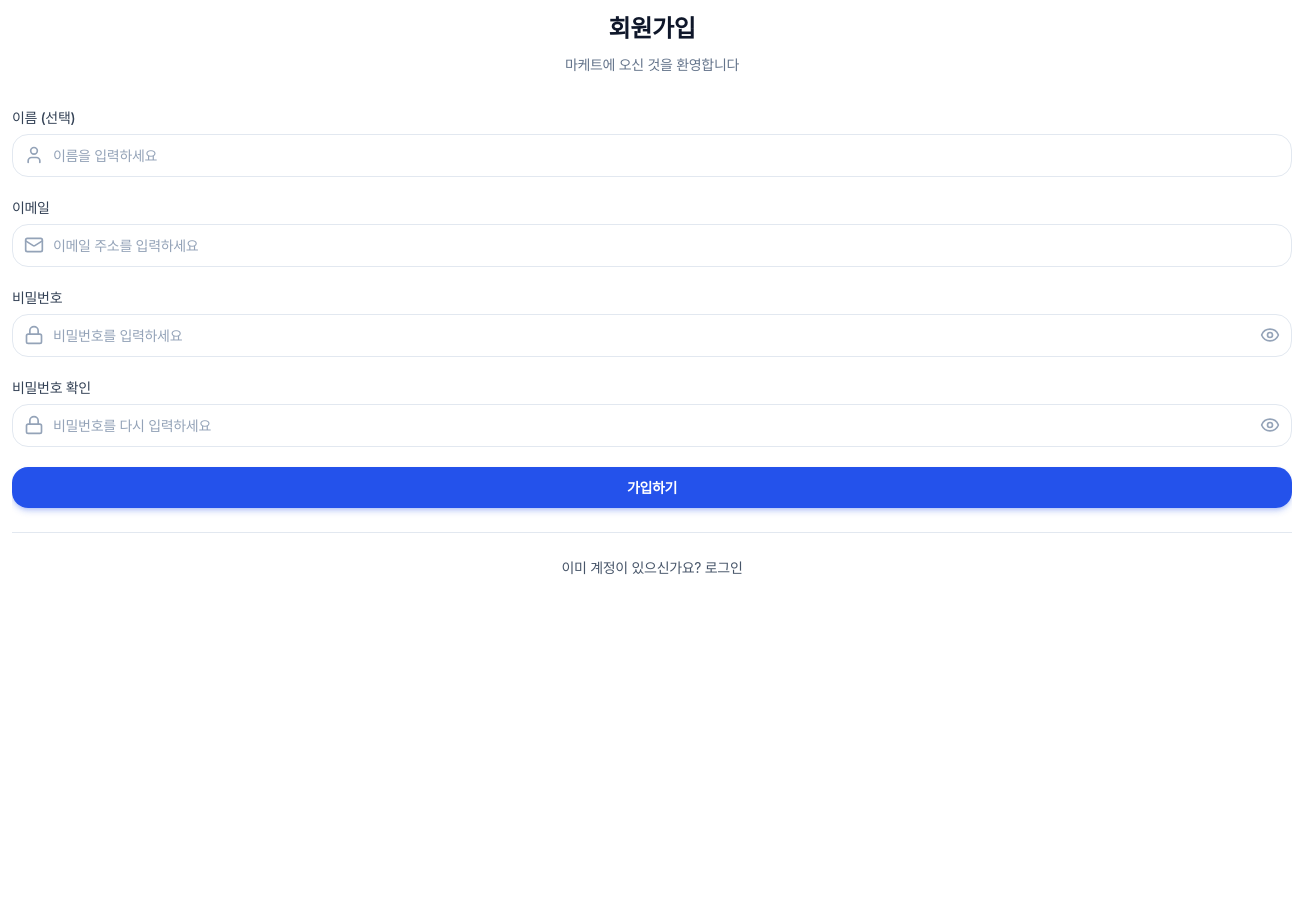
it: SignUpPage › 회원가입 실패 › 이미 가입된 이메일이면 에러 메시지를 표시한다
The width and height of the screenshot is (1304, 912).
In the field labelled "이메일": (652, 245) [12,224,1292,267], type "existing@example.com"
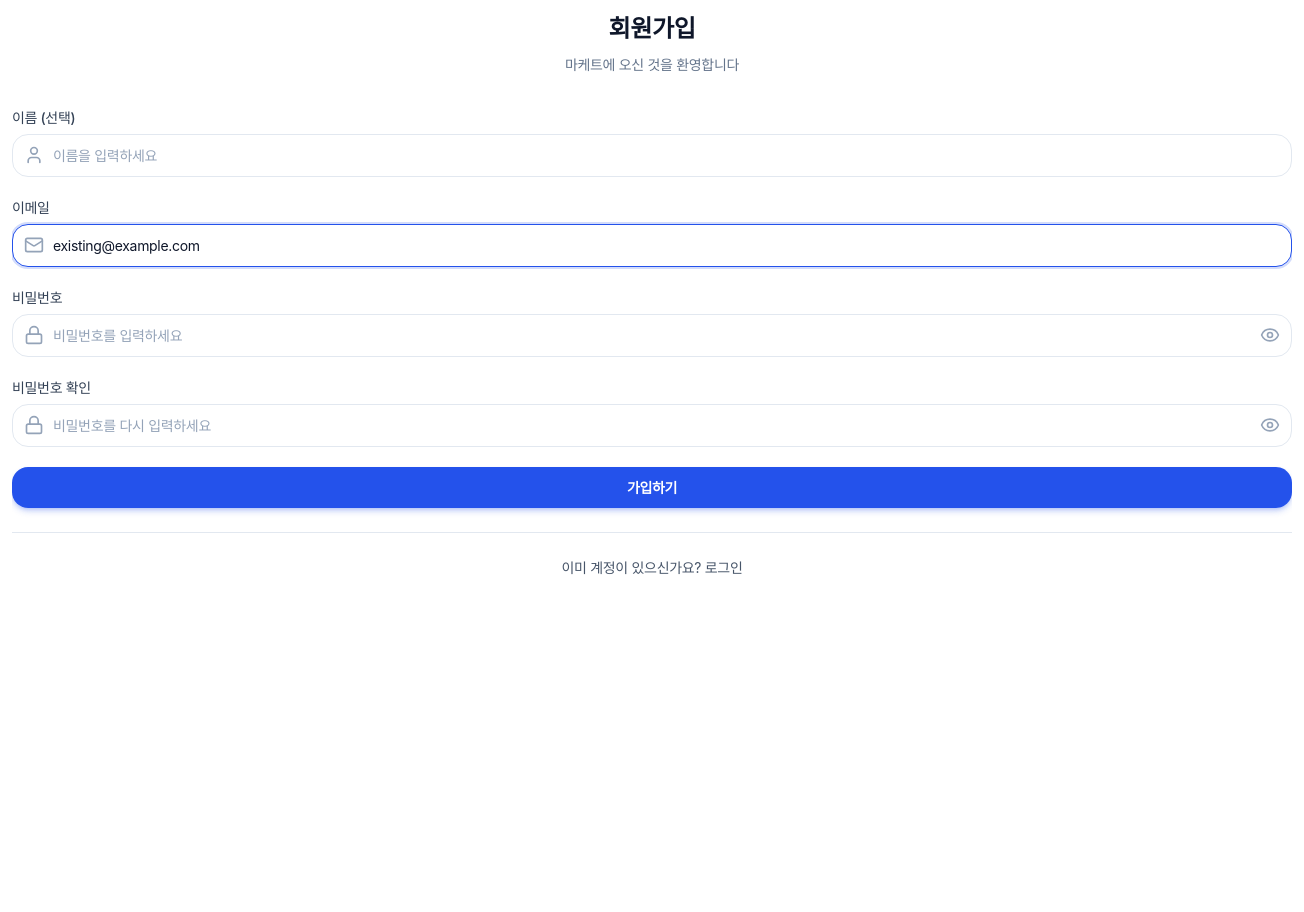
In the password field labelled "비밀번호": (652, 335) [12,314,1292,357], type "Password123"
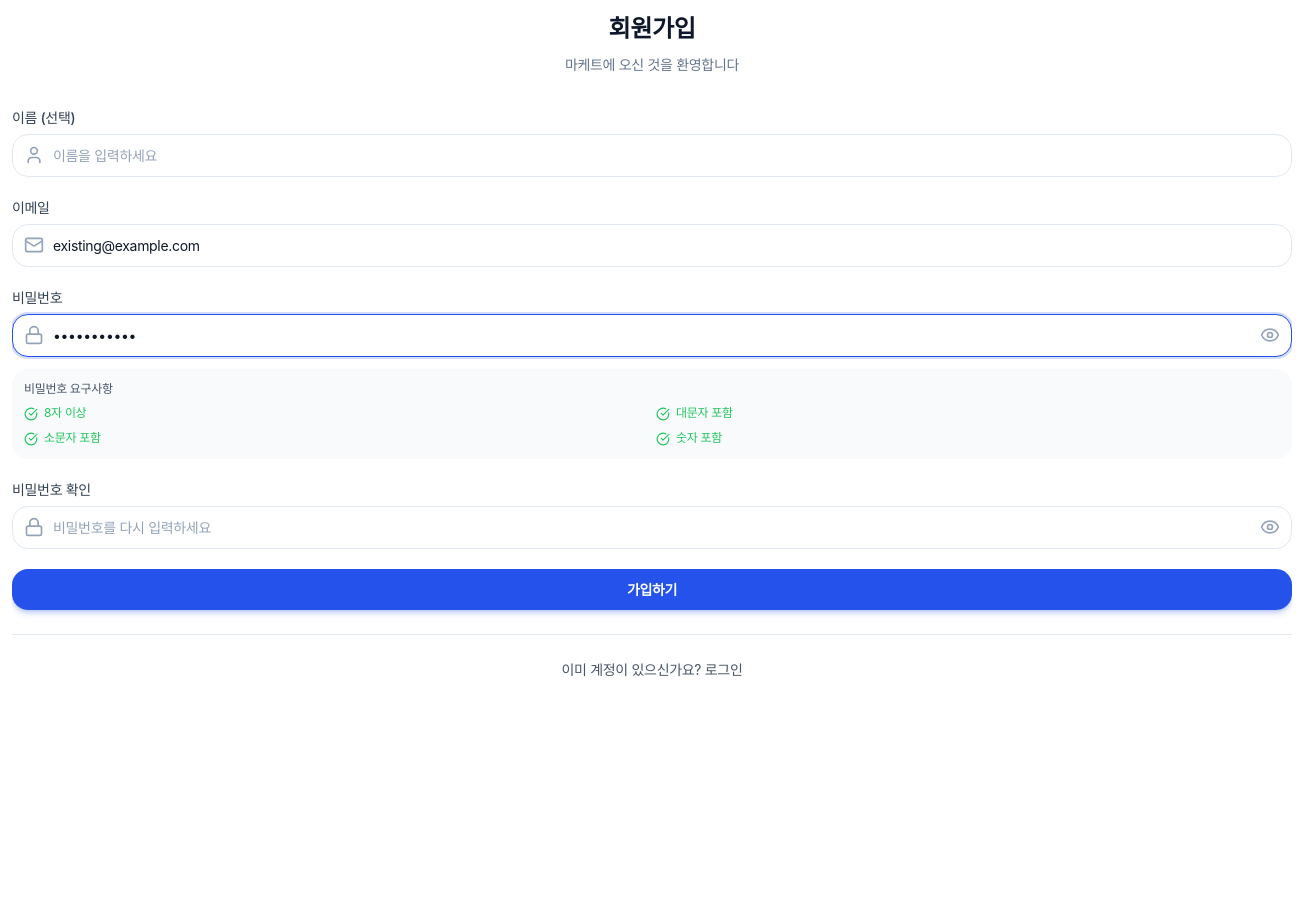
In the password field labelled "비밀번호 확인": (652, 528) [12,506,1292,549], type "Password123"
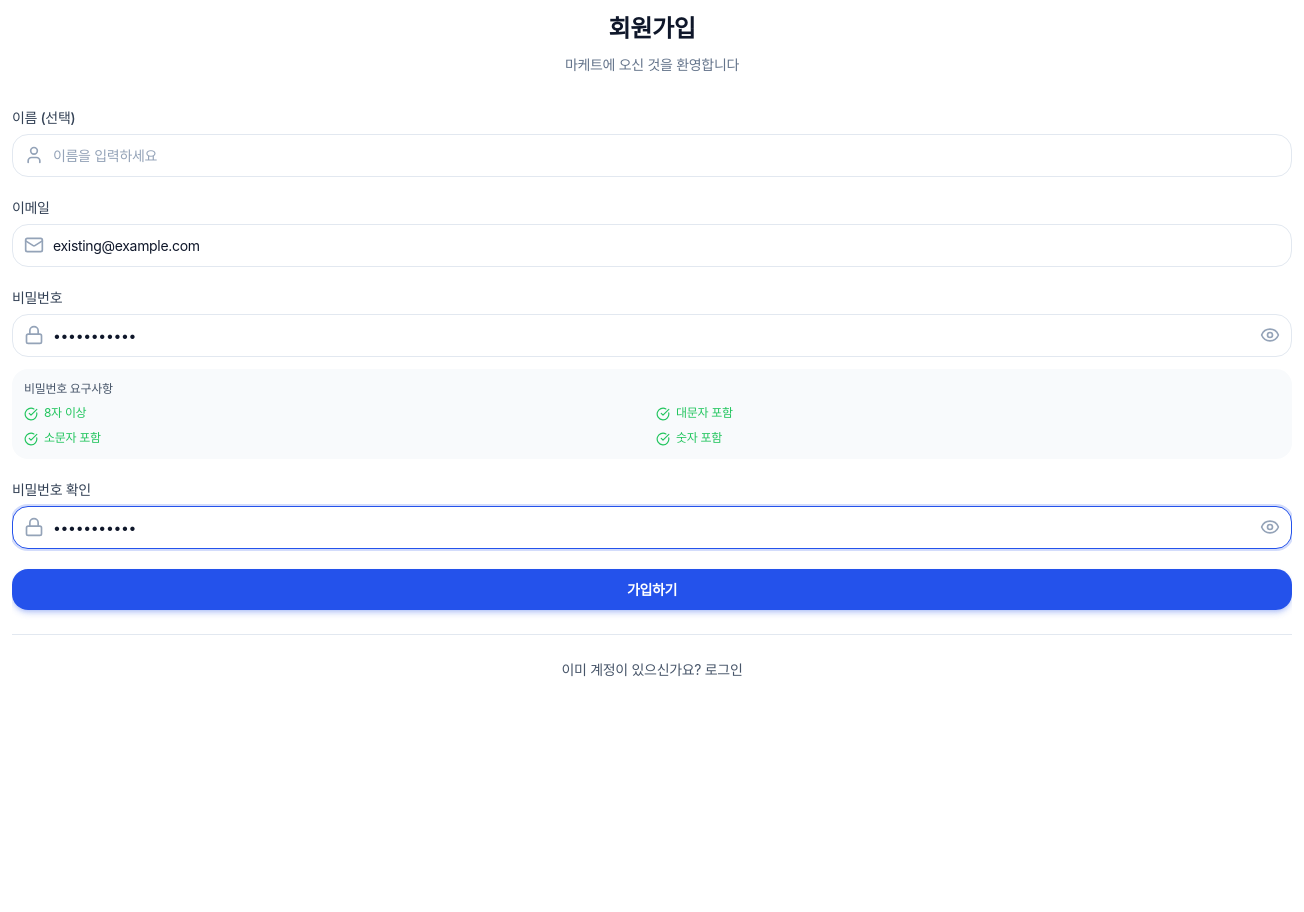
Click the button "가입하기": click(652, 590) [12,569,1292,610]
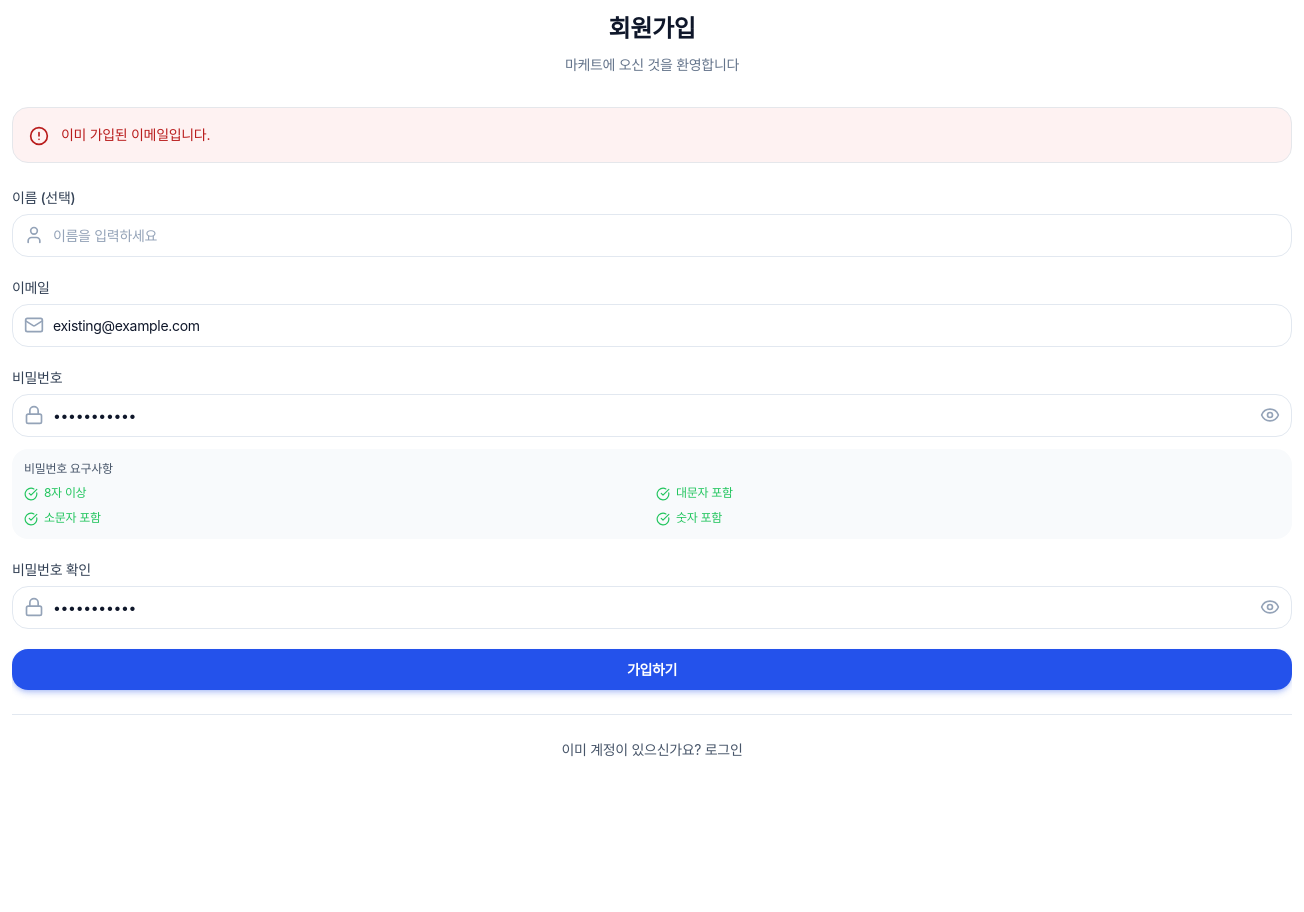
Check: the message "이미 가입된 이메일입니다." is shown, box [12,107,1292,163]
Check: the text "이미 가입된 이메일입니다." is shown, box [61,124,210,145]
